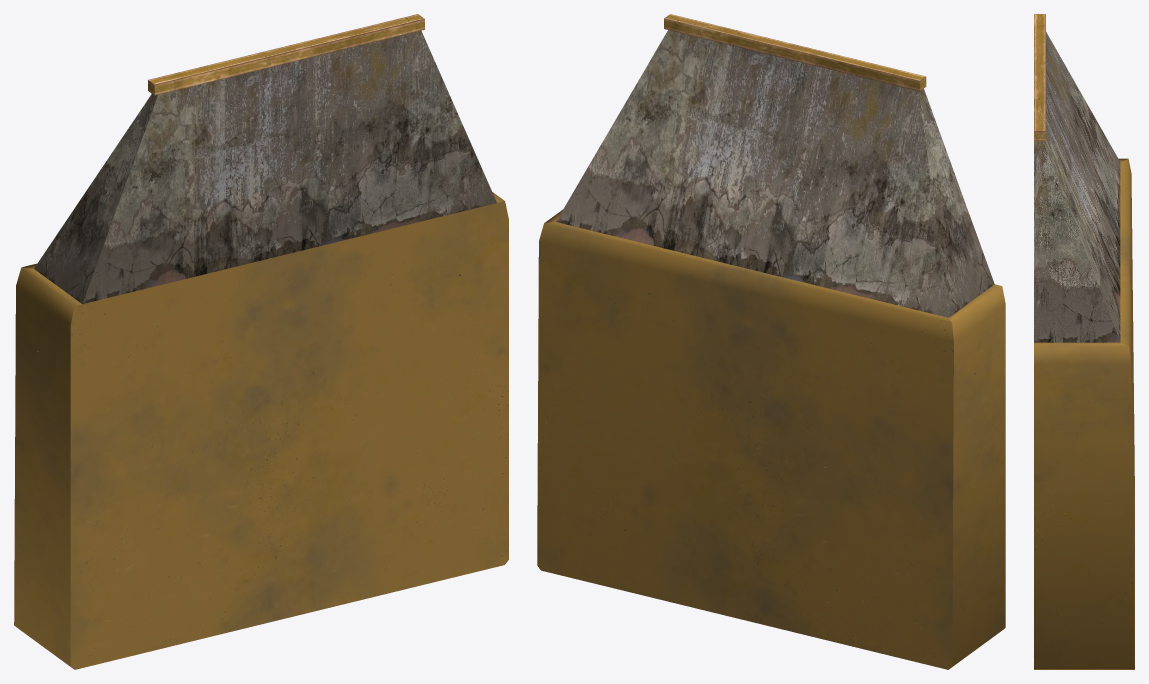
3 renders of one model, left to right at view 1: azimuth 30°, elevation 25°; view 2: azimuth 150°, elevation 25°; view 3: azimuth 270°, elevation 25°, orthographic. The views are drawn at different scales.
Visible parts, largest first — view 1: SM_DK_2m_WallBase_02_LOD0; view 2: SM_DK_2m_WallBase_02_LOD0; view 3: SM_DK_2m_WallBase_02_LOD0.
Part boxes in pixels (box(x1,y1,x2,y2)): SM_DK_2m_WallBase_02_LOD0: box(14, 14, 508, 669); SM_DK_2m_WallBase_02_LOD0: box(537, 14, 1005, 669); SM_DK_2m_WallBase_02_LOD0: box(1034, 14, 1134, 669).
Size of the model in its own units: 3.24 by 4 by 0.7246.
Materials: 2 (2 with a texture image).
